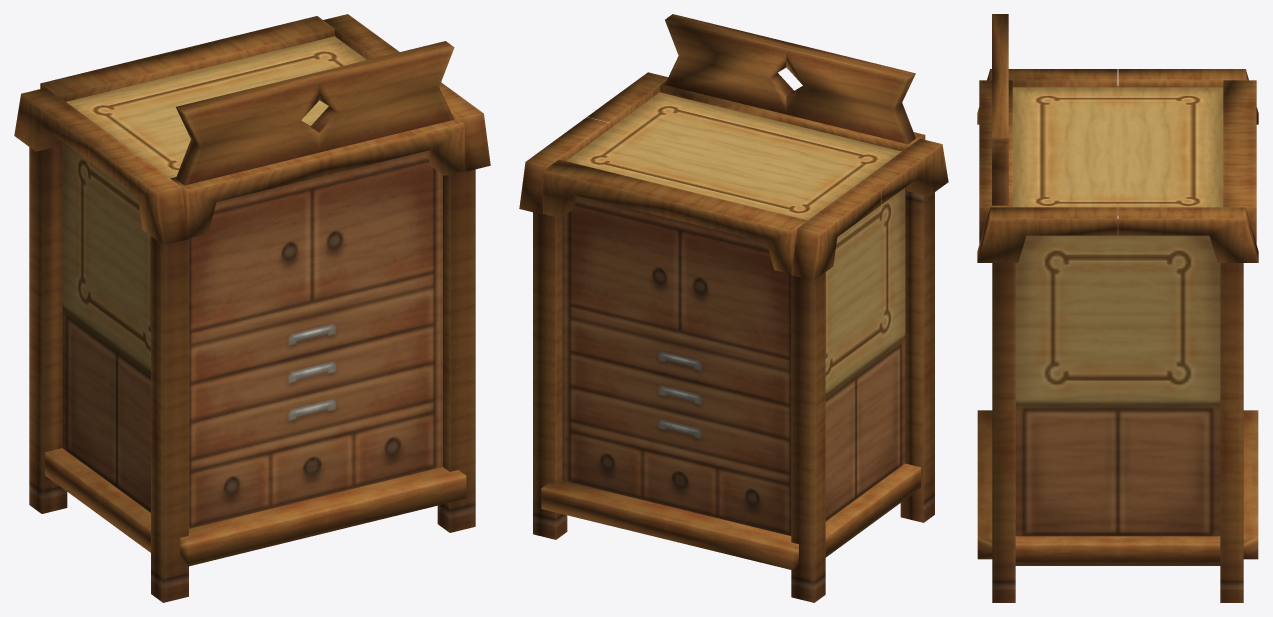
Rendered from a_SWImap02_01.glb.
3 views of the same model, side by side, from view 1: azimuth 30°, elevation 25°; view 2: azimuth 150°, elevation 25°; view 3: azimuth 270°, elevation 25° (orthographic). The views are drawn at different scales.
Visible parts, largest first — view 1: a_SWImap02_01; view 2: a_SWImap02_01; view 3: a_SWImap02_01.
Boxes of the visible parts, <box> form: a_SWImap02_01: <box>14,14,490,602</box>; a_SWImap02_01: <box>519,14,948,602</box>; a_SWImap02_01: <box>977,14,1258,602</box>.
Bounding box in the file's own units: 1.45 × 2.06 × 1.15.
Materials: 1 (1 with a texture image).
